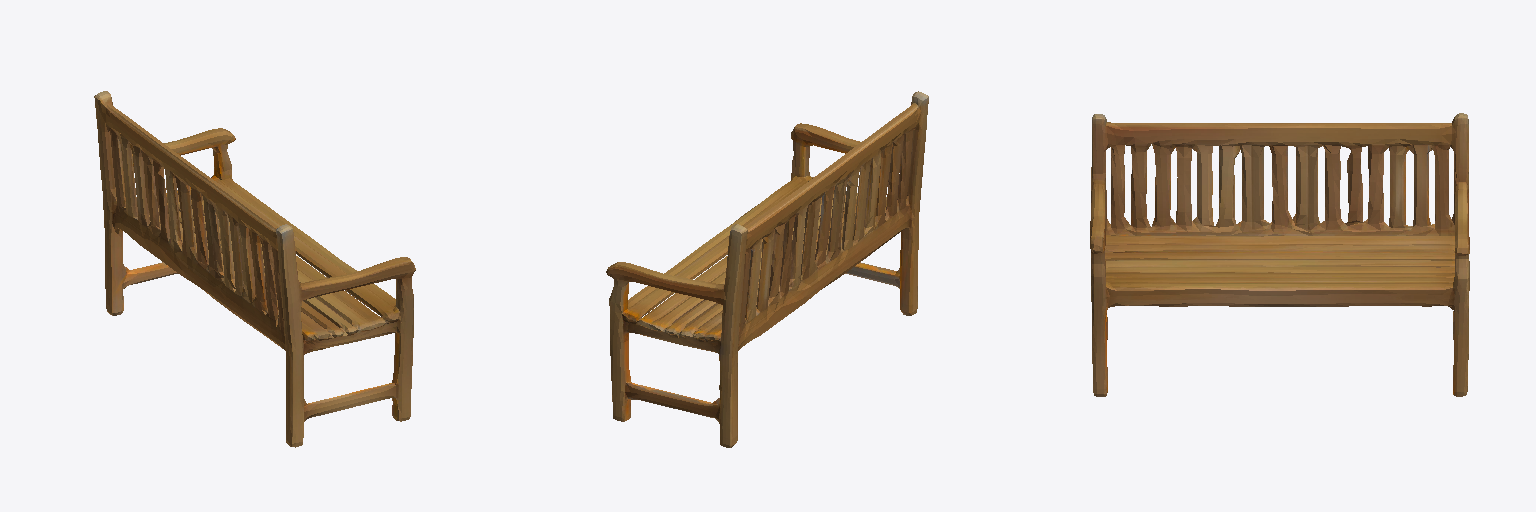
3 views of the same model, side by side, from view 1: azimuth 30°, elevation 25°; view 2: azimuth 150°, elevation 25°; view 3: azimuth 270°, elevation 25° (orthographic).
Parts seen in each view (by area): view 1: tripo_node_10367eb8-0e2f-4859-9e00-c83250fa6ac3; view 2: tripo_node_10367eb8-0e2f-4859-9e00-c83250fa6ac3; view 3: tripo_node_10367eb8-0e2f-4859-9e00-c83250fa6ac3.
Part boxes in pixels (left/top/right/bottom): tripo_node_10367eb8-0e2f-4859-9e00-c83250fa6ac3: left=94, top=91, right=415, bottom=447; tripo_node_10367eb8-0e2f-4859-9e00-c83250fa6ac3: left=606, top=91, right=928, bottom=447; tripo_node_10367eb8-0e2f-4859-9e00-c83250fa6ac3: left=1090, top=113, right=1469, bottom=396.
Size of the model in its own units: 0.3966 by 0.6158 by 0.9485.
Materials: 1 (1 with a texture image).